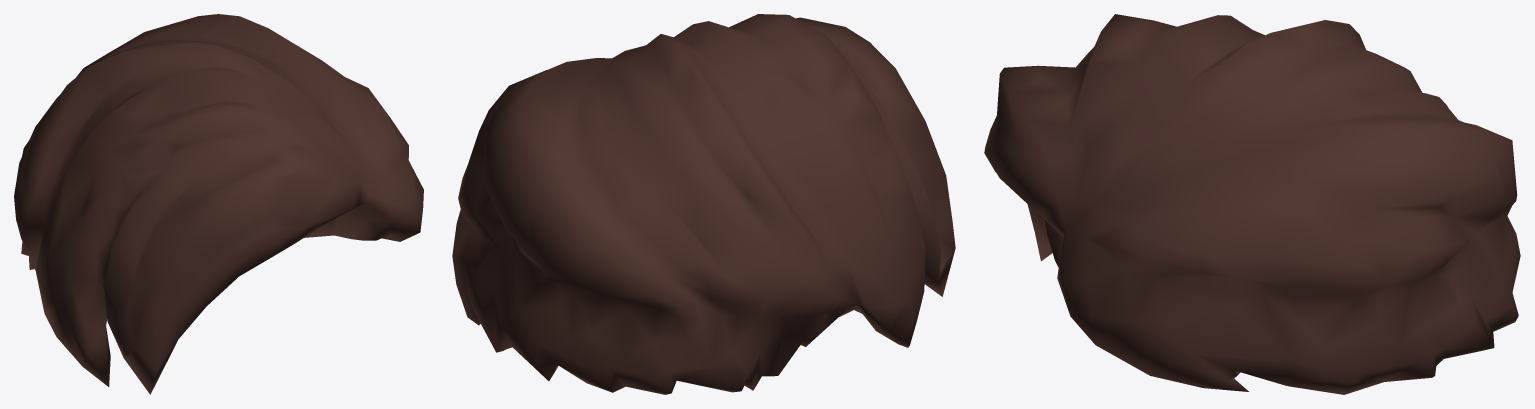
File: man-GSB-1-Hair.fbx
3 renders of one model, left to right at view 1: azimuth 30°, elevation 25°; view 2: azimuth 150°, elevation 25°; view 3: azimuth 270°, elevation 25°, orthographic. The views are drawn at different scales.
Visible parts, largest first — view 1: Wolf3D_Hair; view 2: Wolf3D_Hair; view 3: Wolf3D_Hair.
Part boxes in pixels (x1,y1,x2,y2): Wolf3D_Hair: [14, 14, 423, 394]; Wolf3D_Hair: [452, 14, 955, 394]; Wolf3D_Hair: [984, 14, 1520, 394].
Size of the model in its own units: 18.74 by 13.76 by 20.07.
